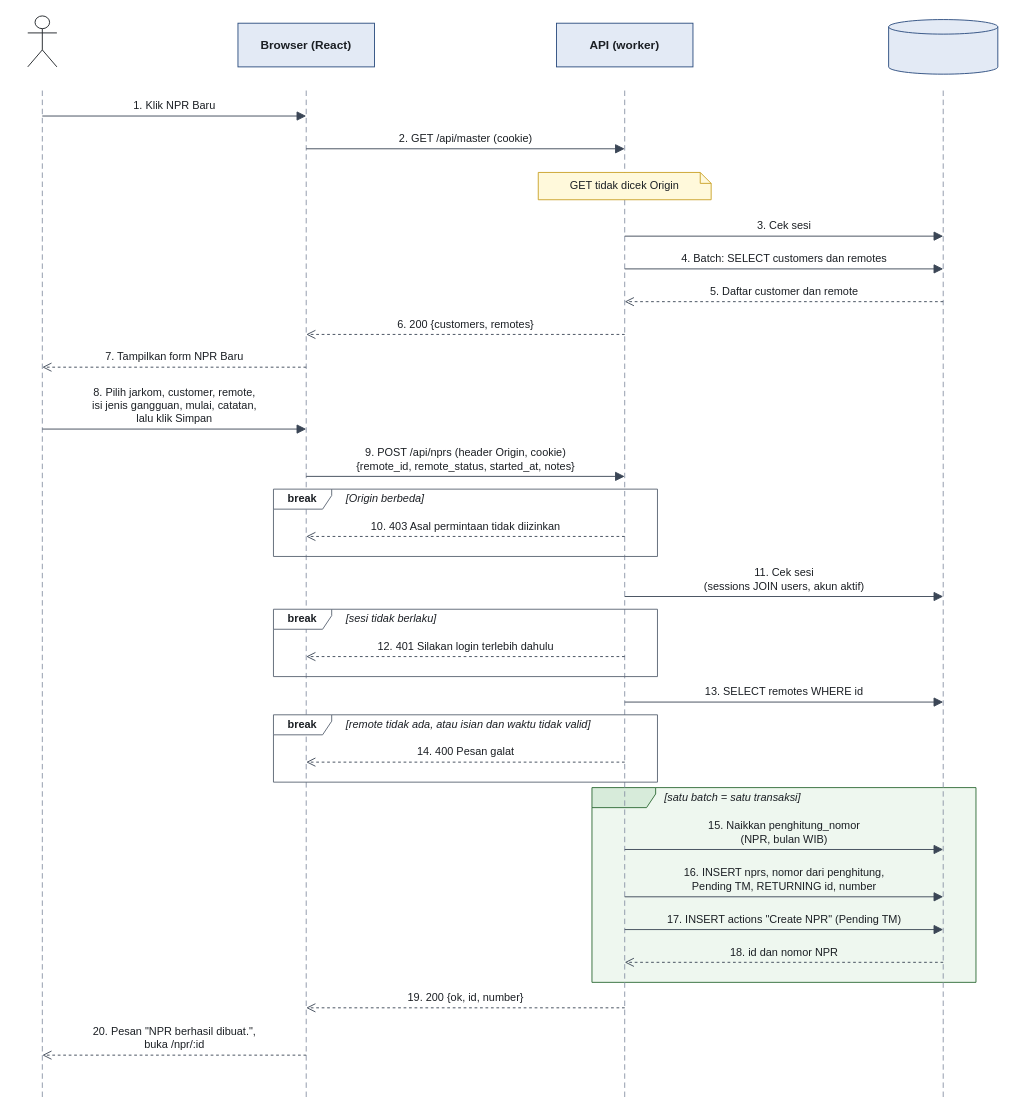
The diagram is 1014 pixels wide and 1114 high, and some of its shapes have lost their labels. The shapes that lost their labels are listed below. From the top down, each one's box as (x1, y1, x2, y2) in pixels, then its label:
(27, 15, 57, 67): Helpdesk
(888, 19, 998, 74): Database
(591, 787, 976, 982): critical
